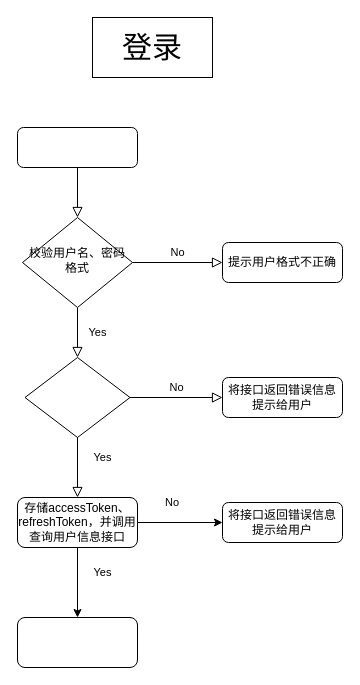
The diagram is 360 pixels wide and 685 high, and some of its shapes have lost their labels. Each missing label, with the centre of its shape:
"存储雇员信息，跳转平台首页" goes at (x=77, y=642).
"调用登录接口" goes at (x=77, y=397).
"输入用户名、密码，点击登录" goes at (x=77, y=147).
